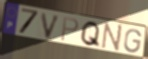7: (19, 8, 40, 37)
G: (123, 28, 143, 55)
N: (100, 22, 124, 54)
P: (60, 16, 80, 42)
Q: (79, 20, 102, 49)
V: (40, 12, 62, 41)
